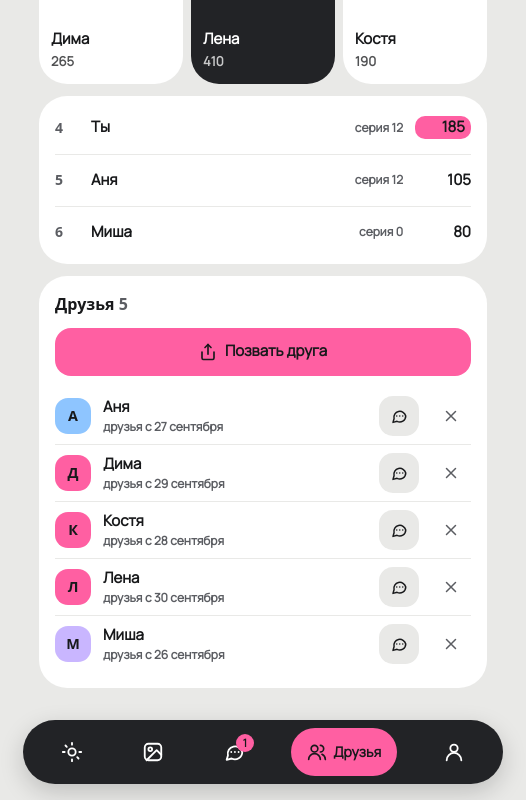
Chats (US-17) › starts a chat with a friend from the friends list
(page scrolled)
Click the button named "Написать Дима" at [399, 472], box [379, 452, 419, 492]
(page scrolled)
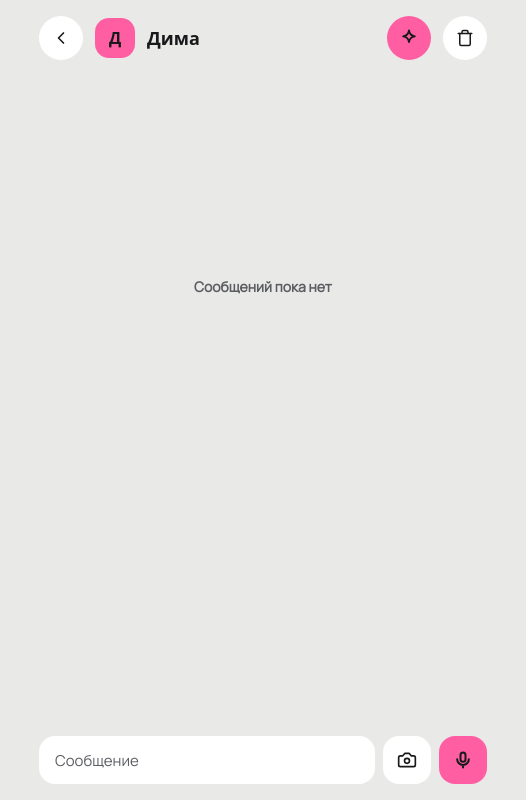
Check: the heading "Дима" is shown, box [147, 26, 200, 50]
Check: the text "Сообщений пока нет" is shown, box [194, 277, 332, 297]
